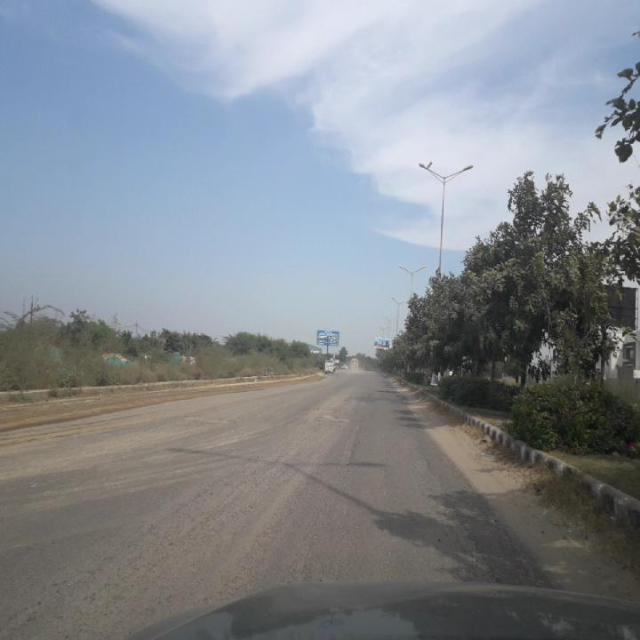D00: (416, 431, 530, 579), (340, 416, 369, 476)
D40: (170, 406, 238, 432), (312, 401, 345, 421)
